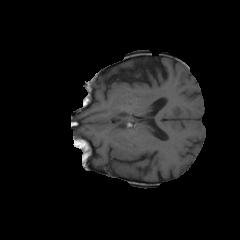glioma: (106, 143, 136, 176)
